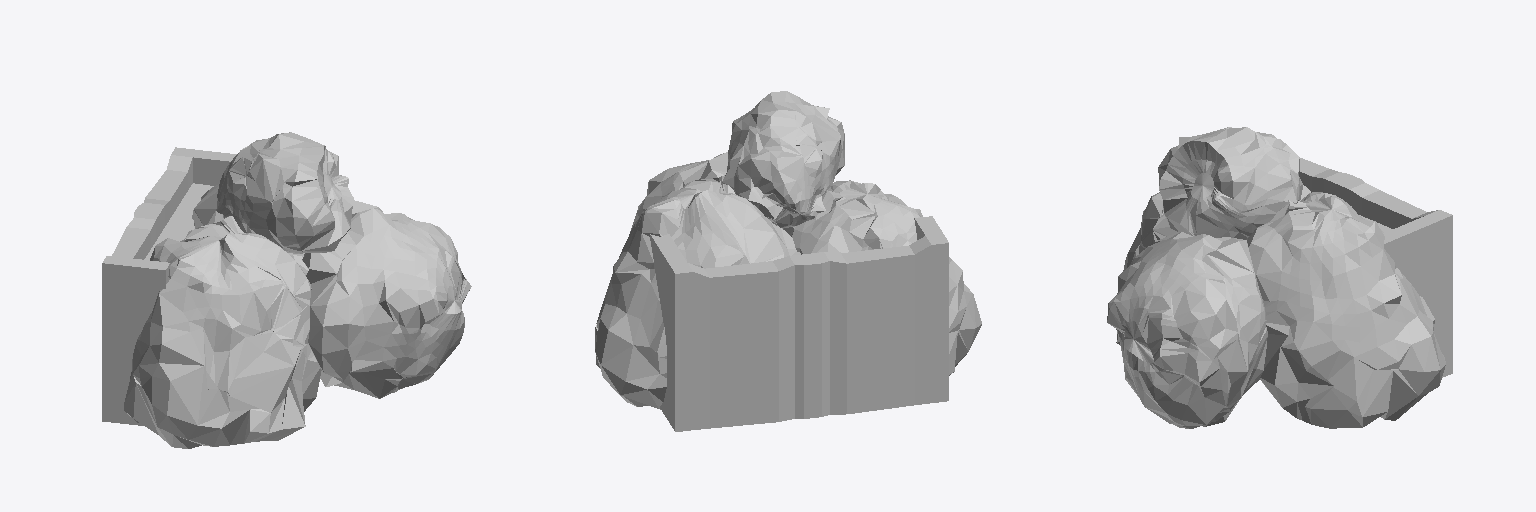
The model's file is felshaufen.obj.
3 views of the same model, side by side, from view 1: azimuth 30°, elevation 25°; view 2: azimuth 150°, elevation 25°; view 3: azimuth 270°, elevation 25° (orthographic).
Parts seen in each view (by area): view 1: Cube.001; view 2: Cube.001; view 3: Cube.001.
Boxes of the visible parts, x1=… form: Cube.001: x1=102, y1=132, x2=471, y2=448; Cube.001: x1=595, y1=91, x2=981, y2=431; Cube.001: x1=1107, y1=127, x2=1452, y2=428.
Bounding box in the file's own units: 0.7765 × 0.5848 × 0.6942.